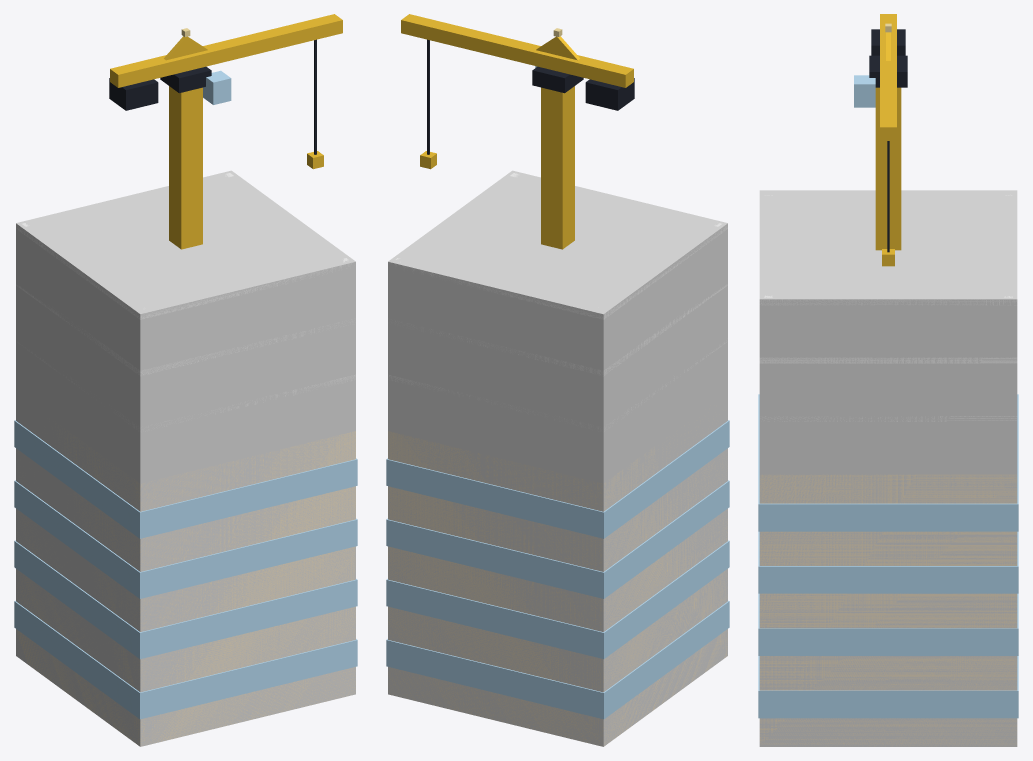
Rendered from skyline-crane.glb.
3 renders of one model, left to right at view 1: azimuth 30°, elevation 25°; view 2: azimuth 150°, elevation 25°; view 3: azimuth 270°, elevation 25°, orthographic. The views are drawn at different scales.
Parts seen in each view (by area): view 1: COL_body, skyline-crane; view 2: COL_body, skyline-crane; view 3: COL_body, skyline-crane.
Boxes of the visible parts, left/top/right/bottom form: COL_body: left=16, top=170, right=355, bottom=746; skyline-crane: left=14, top=14, right=357, bottom=746; COL_body: left=388, top=170, right=727, bottom=746; skyline-crane: left=386, top=14, right=729, bottom=745; COL_body: left=759, top=190, right=1017, bottom=746; skyline-crane: left=758, top=14, right=1018, bottom=746.
Bounding box in the file's own units: 14.56 × 34.3 × 12.12.
